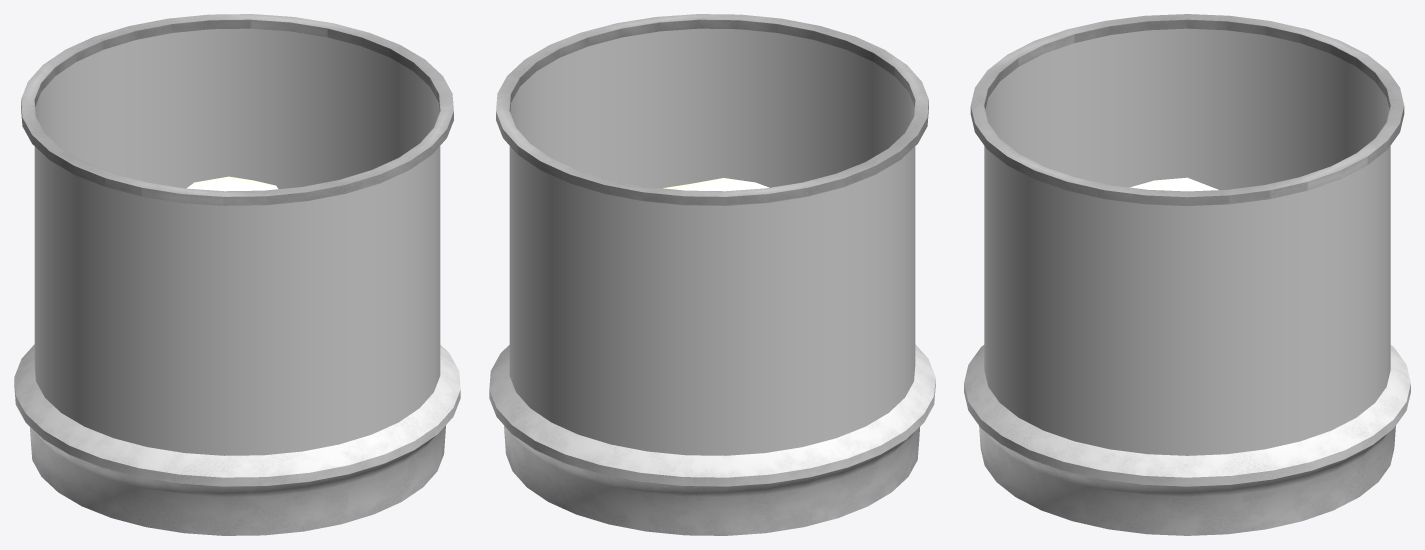
The model's file is NH11Candle.fbx.
The picture shows the model from 3 angles, left to right: view 1: azimuth 30°, elevation 25°; view 2: azimuth 150°, elevation 25°; view 3: azimuth 270°, elevation 25°; orthographic projection.
Visible parts, largest first — view 1: NH11Candle-Glass, NH11Candle-Base; view 2: NH11Candle-Glass, NH11Candle-Base; view 3: NH11Candle-Glass, NH11Candle-Base.
Part boxes in pixels (<box>): NH11Candle-Glass: <box>34,28,440,455</box>; NH11Candle-Base: <box>14,14,460,535</box>; NH11Candle-Glass: <box>509,28,915,455</box>; NH11Candle-Base: <box>489,14,935,535</box>; NH11Candle-Glass: <box>984,28,1390,455</box>; NH11Candle-Base: <box>964,14,1410,535</box>.
Bounding box in the file's own units: 14.32 × 12.12 × 14.32.
